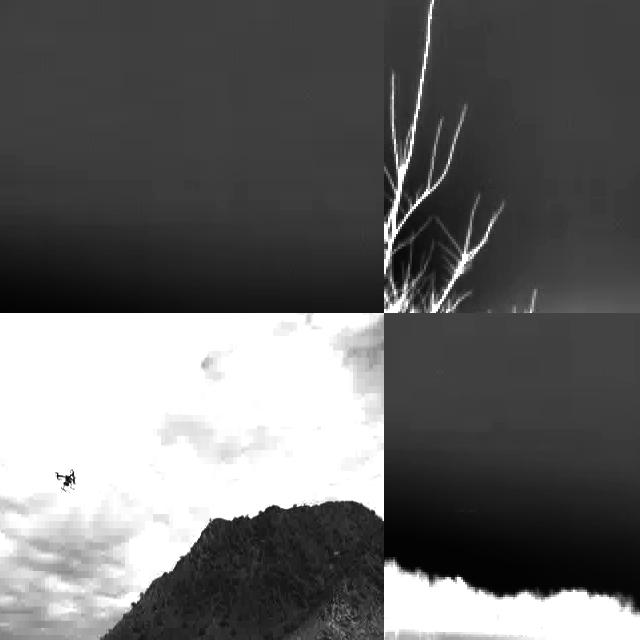0: (449, 502, 479, 530)
drone: (51, 463, 78, 493)
